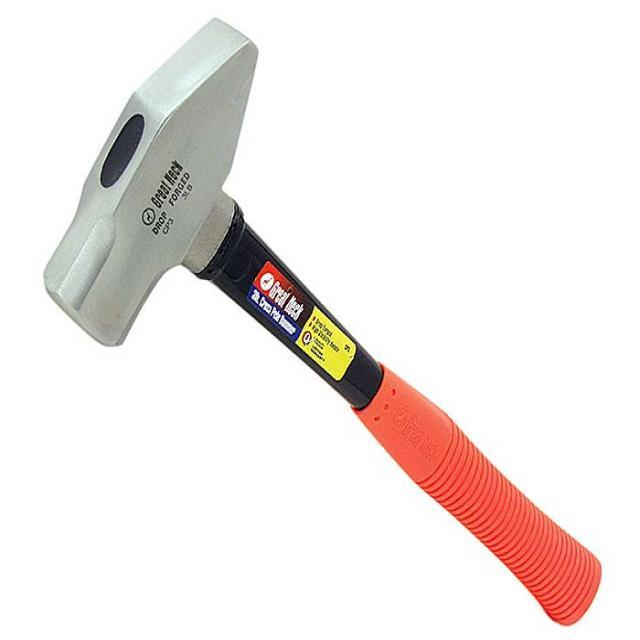hammer: (32, 4, 609, 632)
